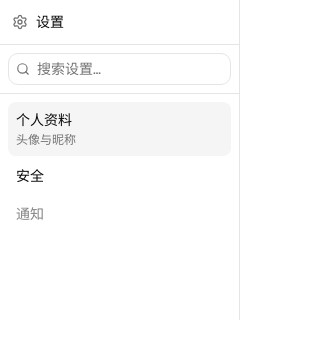
SettingsLayout › filters nav by search
The image size is (320, 337).
Type "安全" into the field with placeholder "搜索设置…".
click(120, 69); type("安全")  # box top-left (8, 53), bottom-right (231, 85)
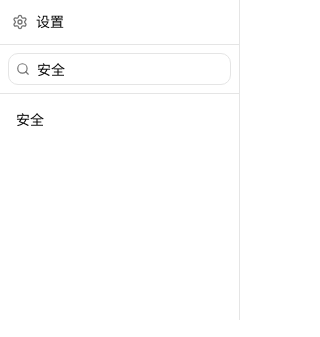
Expected: the text "安全" is shown, top-left (16, 111), bottom-right (44, 129)
Now the button "个人资料" is gone
